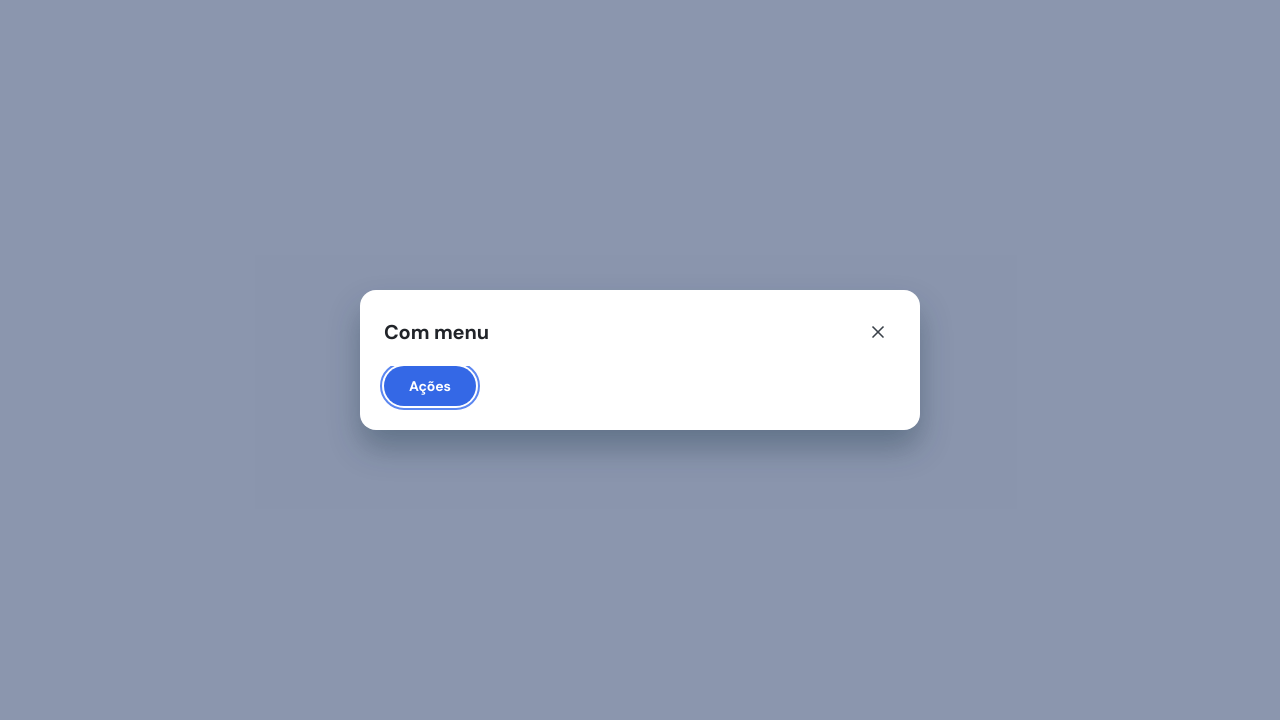
Test: Menu › clique abre com o foco no primeiro item; escolher fecha e devolve o foco ao acionador; Tab fecha
The image size is (1280, 720).
Earlier steps of the test are not shown.
Click the button "Ações" at (430, 386), box [384,366,476,406]
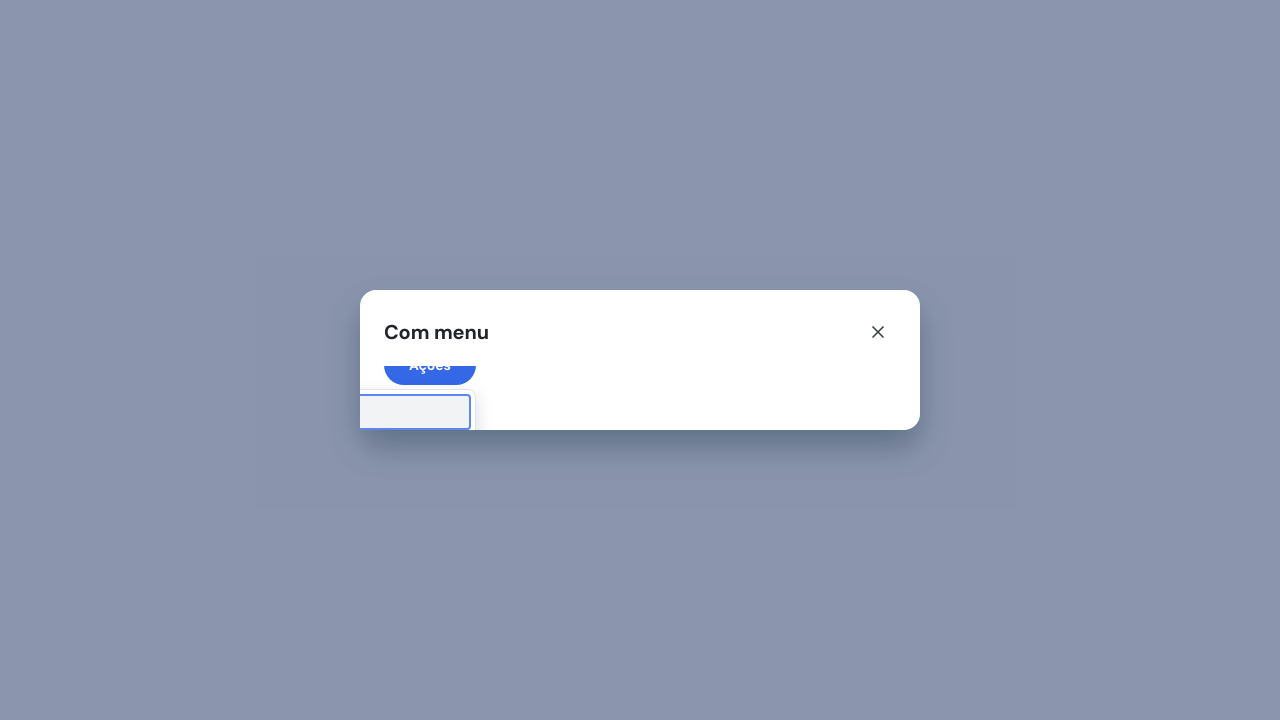
Press Tab in the menu item "Primeira", box [261,394,471,430]
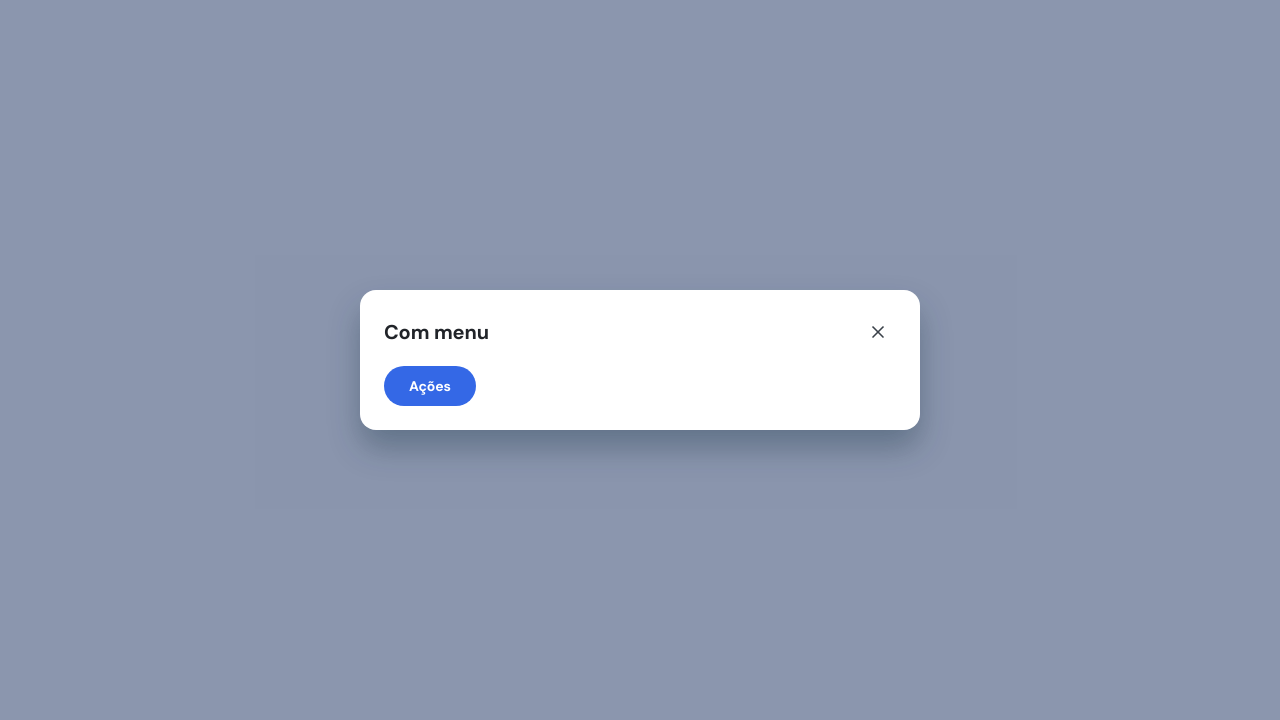
Check: the menu is gone
